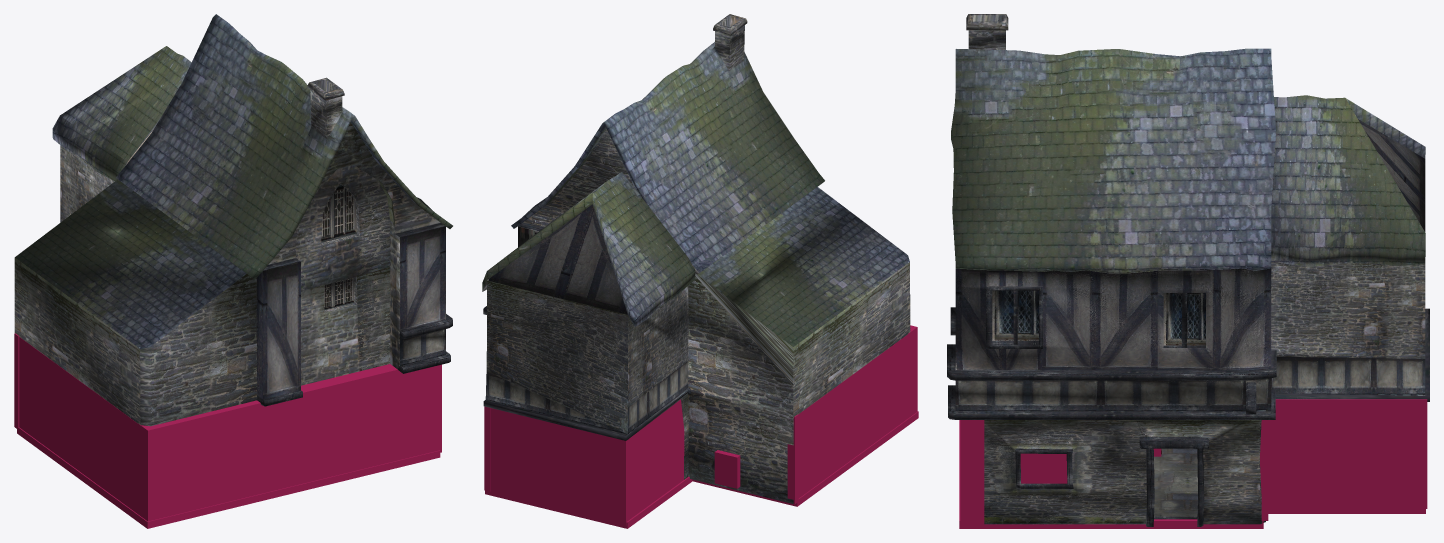
Rendered from Pub.DAE.
The picture shows the model from 3 angles, left to right: view 1: azimuth 30°, elevation 25°; view 2: azimuth 150°, elevation 25°; view 3: azimuth 270°, elevation 25°; orthographic projection. The views are drawn at different scales.
Visible parts, largest first — view 1: Ca700, col-1, Ca100; view 2: Ca100, Ca700, col-1; view 3: Ca700, Ca100, col-1.
Part boxes in pixels (x1=…): Ca700: x1=15, y1=21, x2=452, y2=426; col-1: x1=14, y1=333, x2=441, y2=528; Ca100: x1=14, y1=14, x2=452, y2=405; Ca100: x1=482, y1=14, x2=907, y2=503; Ca700: x1=483, y1=14, x2=910, y2=440; col-1: x1=484, y1=325, x2=918, y2=528; Ca700: x1=947, y1=14, x2=1429, y2=526; Ca100: x1=947, y1=14, x2=1429, y2=526; col-1: x1=959, y1=399, x2=1427, y2=528.
Bounding box in the file's own units: 50580 × 53268 × 55097.
